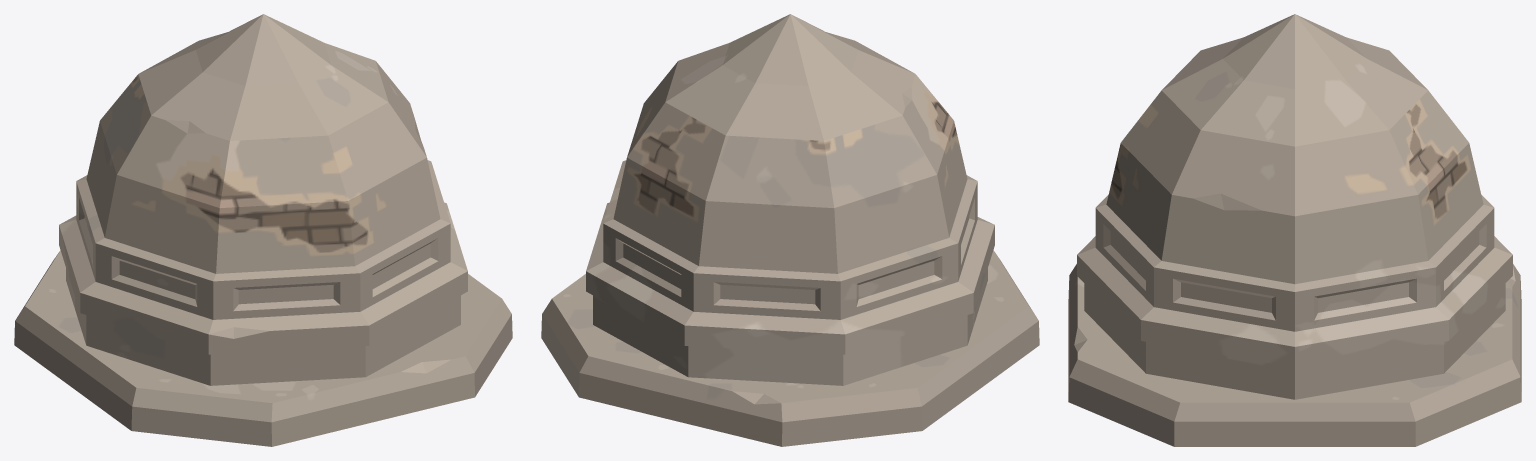
File: SM_Bld_Village_Dome_01.fbx
3 renders of one model, left to right at view 1: azimuth 30°, elevation 25°; view 2: azimuth 150°, elevation 25°; view 3: azimuth 270°, elevation 25°, orthographic. The views are drawn at different scales.
Parts seen in each view (by area): view 1: SM_Bld_Village_Dome_01; view 2: SM_Bld_Village_Dome_01; view 3: SM_Bld_Village_Dome_01.
Part boxes in pixels (left/top/right/bottom): SM_Bld_Village_Dome_01: left=14, top=14, right=512, bottom=446; SM_Bld_Village_Dome_01: left=541, top=14, right=1039, bottom=446; SM_Bld_Village_Dome_01: left=1068, top=14, right=1521, bottom=446.
Size of the model in its own units: 354 by 291 by 354.
